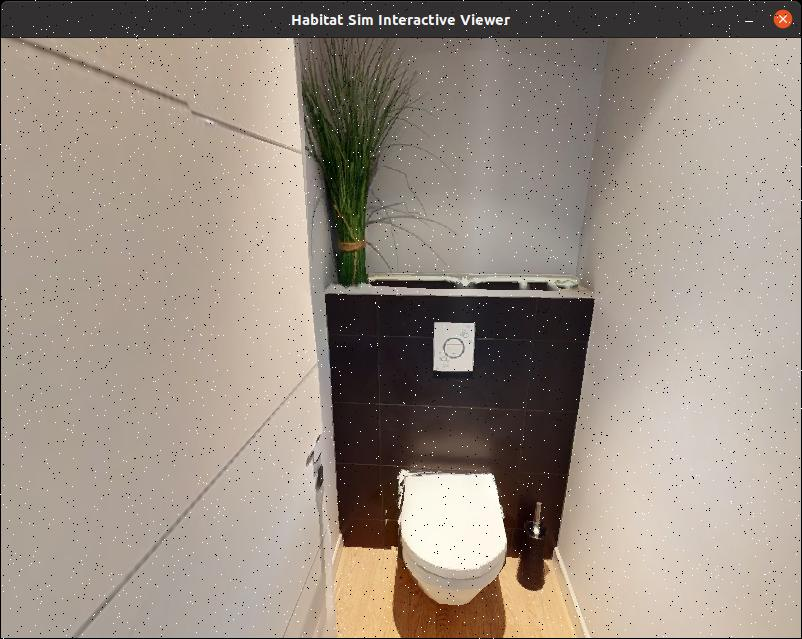toilet: (375, 433, 540, 620)
